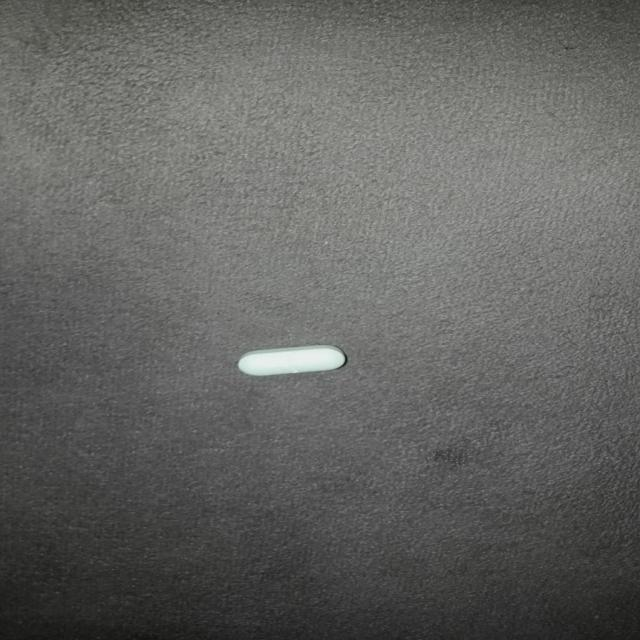pill: (235, 338, 349, 384)
